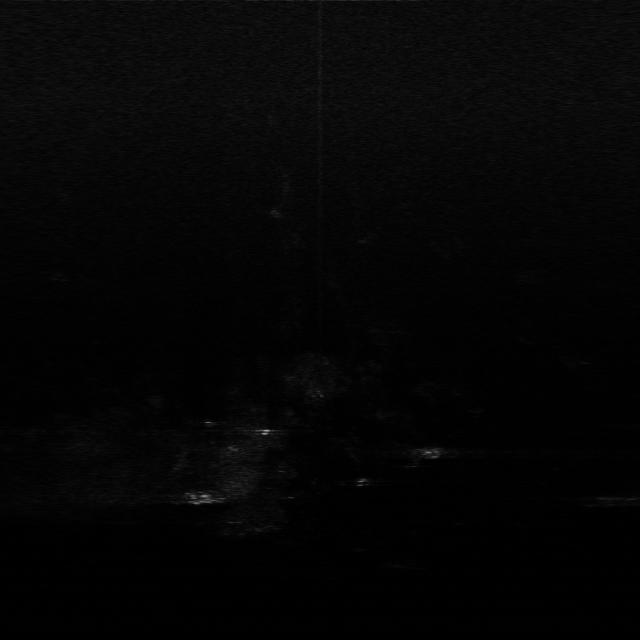rov: (177, 484, 221, 508)
